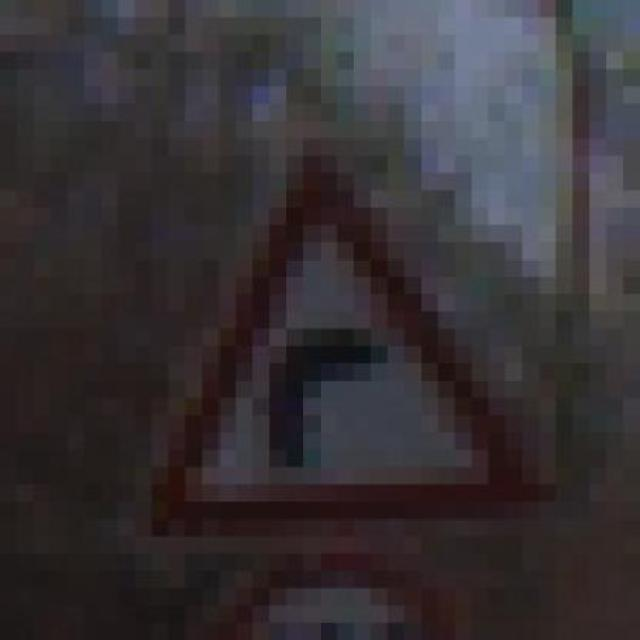Dangerous Rright Curve Ahead: (97, 121, 586, 537)
